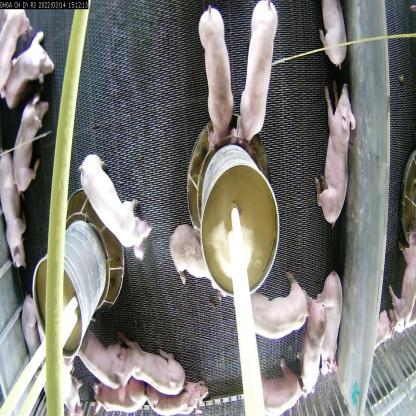Pig: (76, 152, 153, 265), (315, 74, 358, 236), (239, 0, 280, 147), (197, 2, 235, 150), (242, 266, 311, 341), (0, 31, 59, 110), (112, 336, 184, 397), (170, 219, 219, 300), (13, 99, 49, 203), (0, 140, 27, 274), (248, 358, 303, 416), (299, 289, 326, 406), (79, 328, 129, 391), (388, 219, 416, 330), (320, 265, 344, 392), (142, 378, 210, 416), (1, 8, 28, 99), (317, 0, 347, 76), (88, 382, 148, 416), (20, 294, 41, 379)
